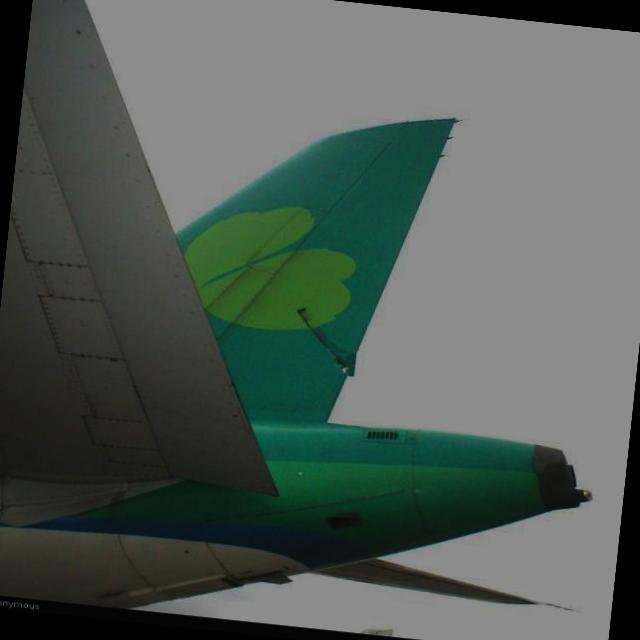crack: (262, 288, 398, 394)
